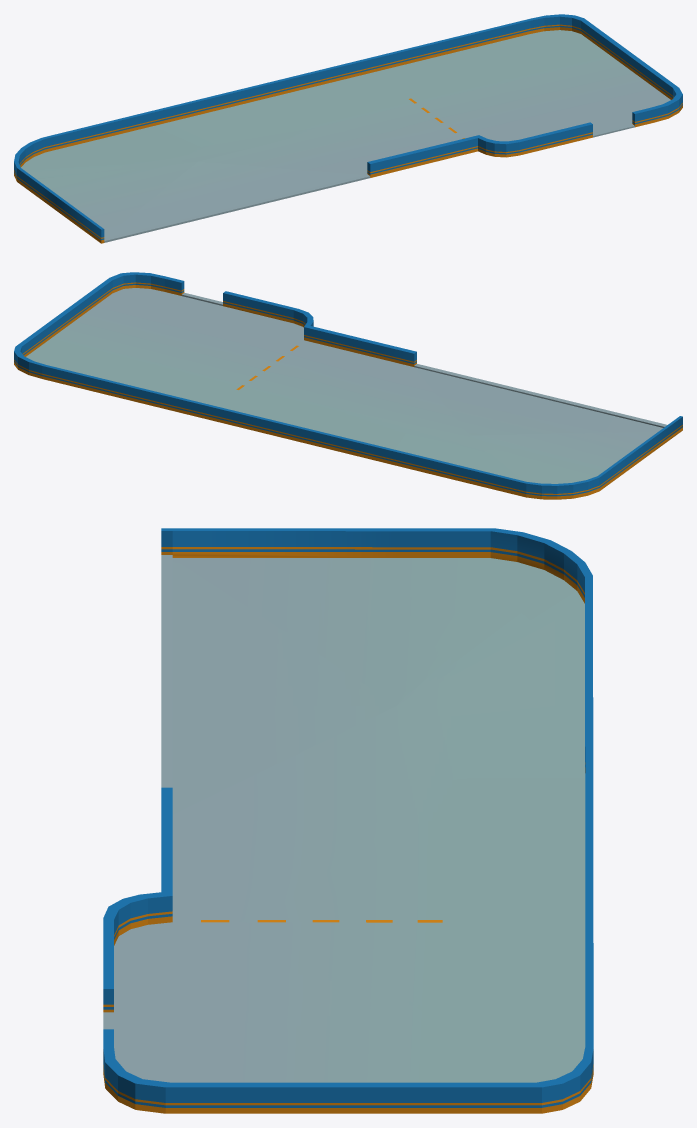
File: WeiQiang3_Mo.fbx
The picture shows the model from 3 angles, top to bottom: view 1: azimuth 30°, elevation 25°; view 2: azimuth 150°, elevation 25°; view 3: azimuth 270°, elevation 25°; orthographic projection. The views are drawn at different scales.
Visible parts, largest first — view 1: 对象010u; view 2: 对象010u; view 3: 对象010u.
Part boxes in pixels (<box>): 对象010u: <box>14,14,682,243</box>; 对象010u: <box>14,272,682,499</box>; 对象010u: <box>103,528,593,1113</box>.
Bounding box in the file's own units: 10087 × 233 × 3739.
Materials: 1 (1 with a texture image).
